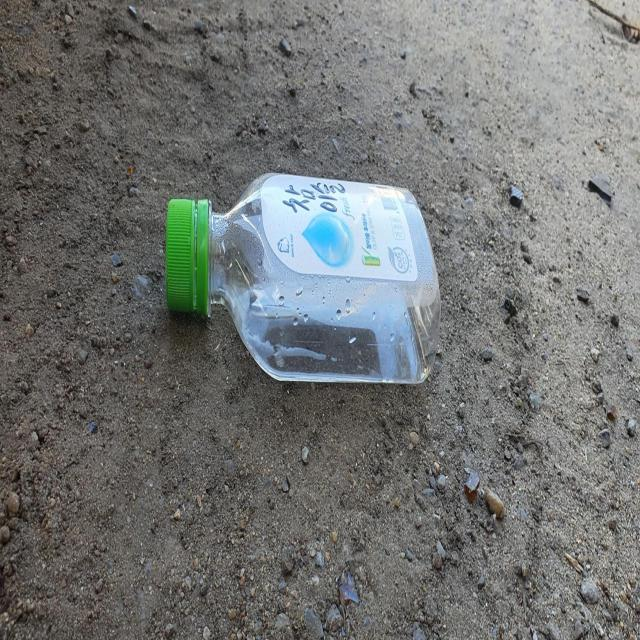plastic: (165, 172, 441, 382)
